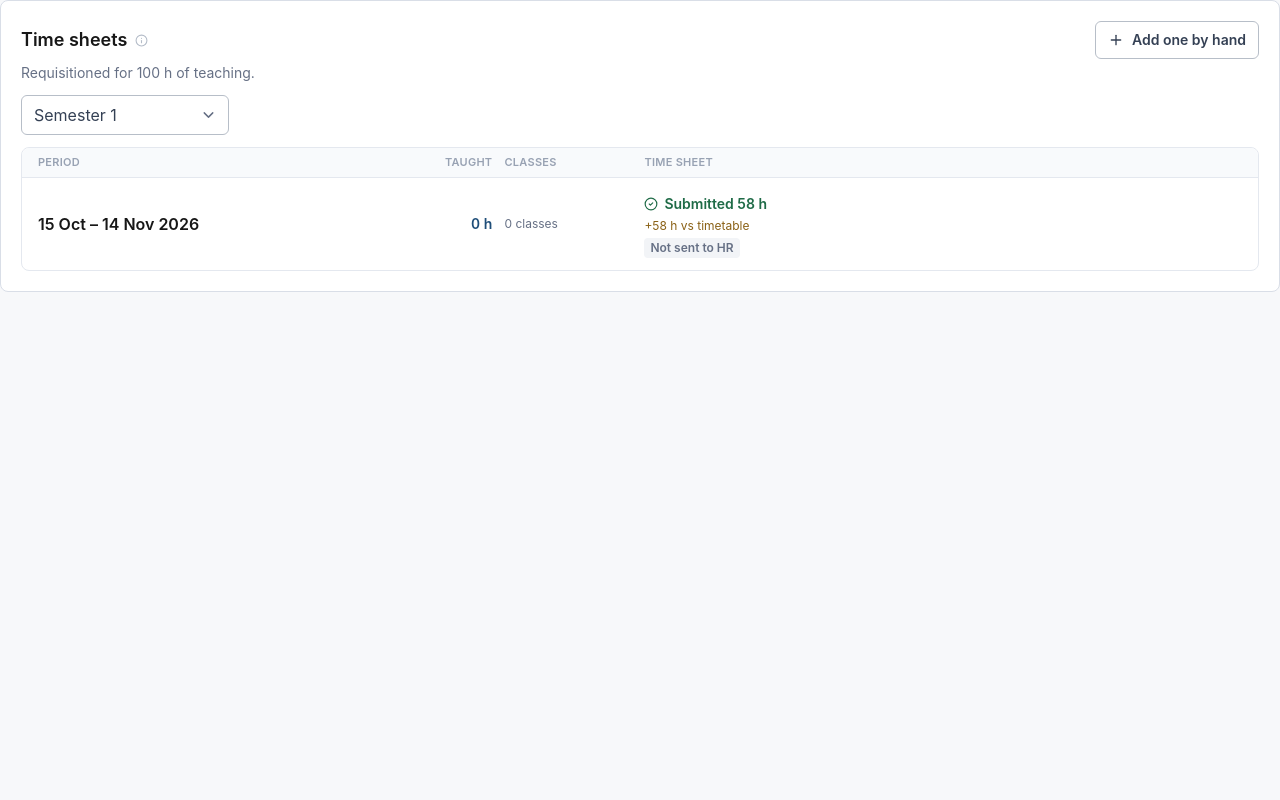
Test: opening a submitted sheet › adds the days up itself, and says so when the app's total is not what they come to
Click the button "Submitted 58 h" at (706, 204), box [644, 194, 767, 214]
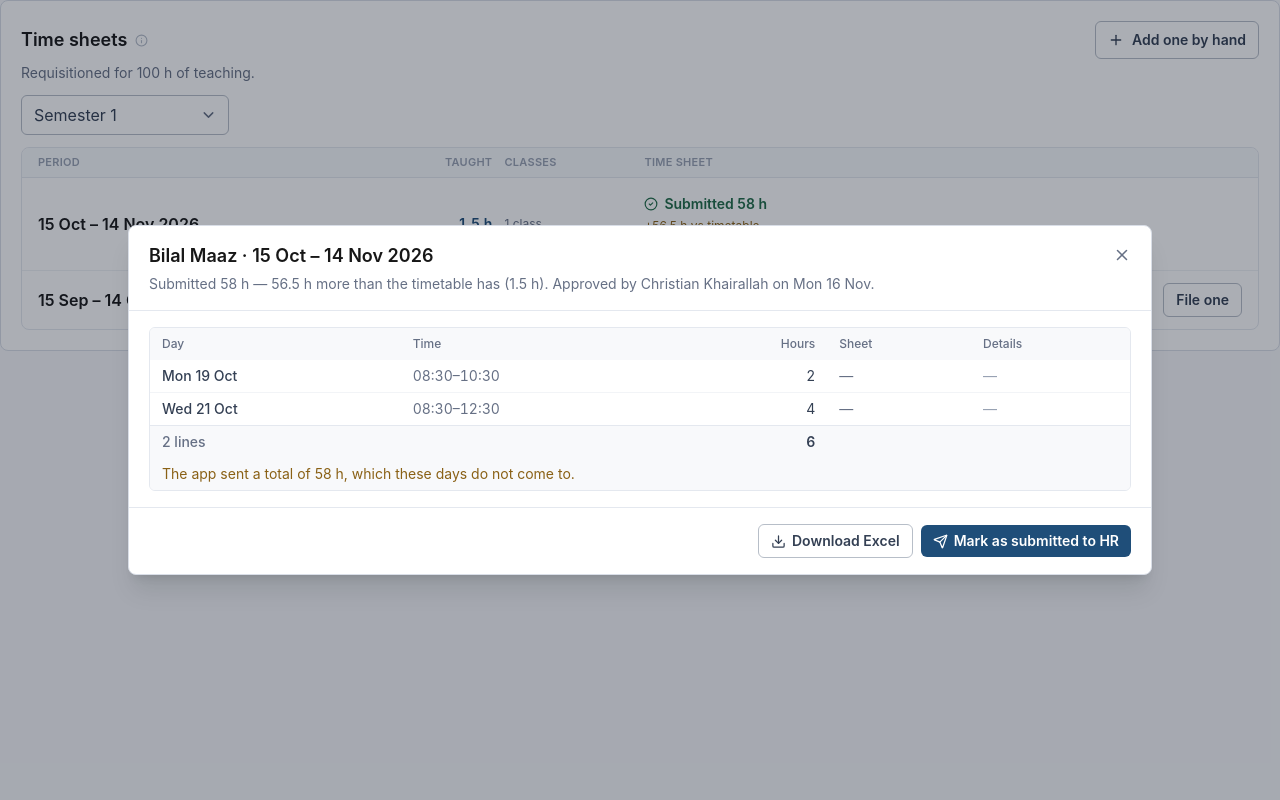
Expected: the text "The app sent a total of 58 h, which these days do not come to" is shown, [150, 458, 1130, 490]
